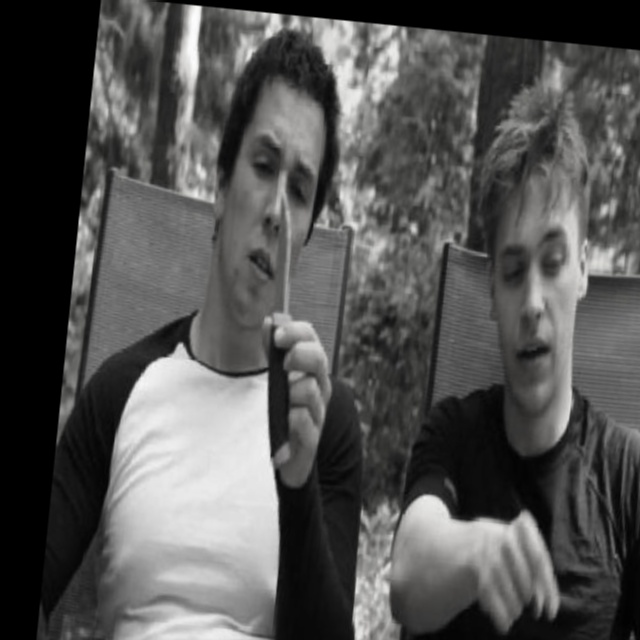Sharp-Object: (250, 187, 316, 467)
